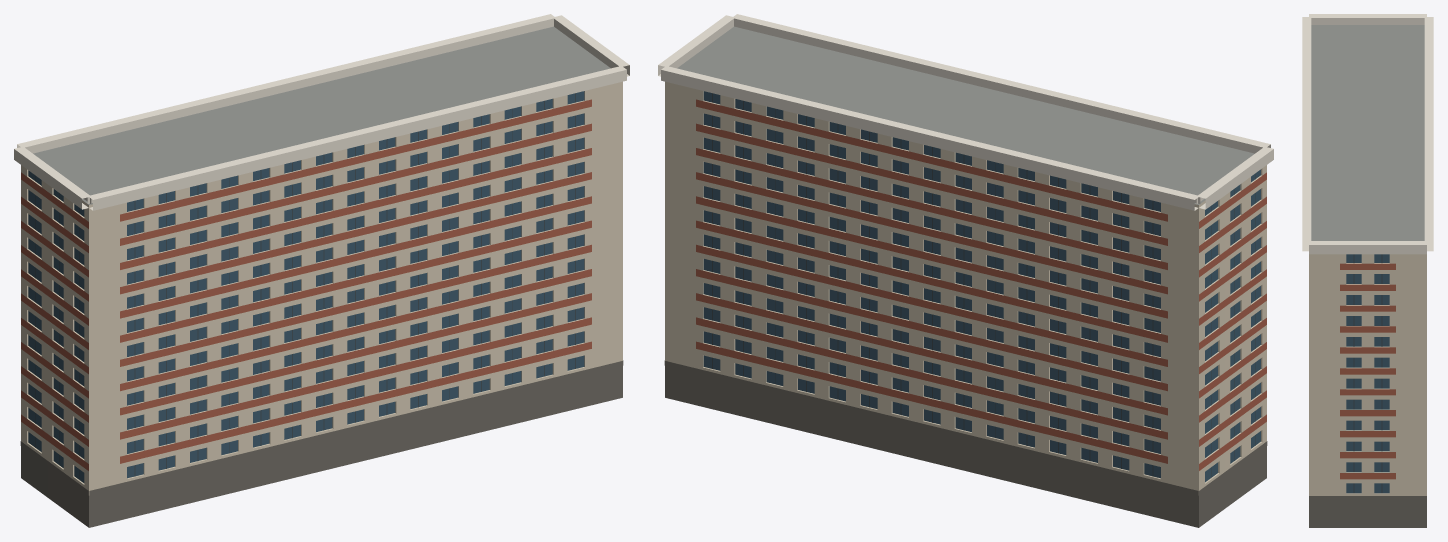
3 renders of one model, left to right at view 1: azimuth 30°, elevation 25°; view 2: azimuth 150°, elevation 25°; view 3: azimuth 270°, elevation 25°, orthographic. The views are drawn at different scales.
Visible parts, largest first — view 1: visionHall__wall, visionHall__wall2, visionHall__glass, visionHall__roof, visionHall__base, visionHall__trim, visionHall__frame; view 2: visionHall__wall, visionHall__wall2, visionHall__glass, visionHall__roof, visionHall__base, visionHall__trim, visionHall__frame; view 3: visionHall__roof, visionHall__wall, visionHall__trim, visionHall__wall2, visionHall__glass, visionHall__base, visionHall__frame.
Boxes of the visible parts, left/top/right/bottom form: visionHall__wall: left=21, top=81, right=622, bottom=495; visionHall__wall2: left=21, top=99, right=591, bottom=470; visionHall__glass: left=28, top=91, right=584, bottom=482; visionHall__roof: left=33, top=26, right=610, bottom=204; visionHall__base: left=20, top=360, right=623, bottom=527; visionHall__trim: left=14, top=14, right=629, bottom=210; visionHall__frame: left=35, top=93, right=575, bottom=480; visionHall__wall: left=665, top=81, right=1266, bottom=495; visionHall__wall2: left=696, top=99, right=1266, bottom=470; visionHall__glass: left=703, top=91, right=1260, bottom=482; visionHall__roof: left=677, top=26, right=1254, bottom=204; visionHall__base: left=664, top=360, right=1267, bottom=527; visionHall__trim: left=658, top=14, right=1273, bottom=210; visionHall__frame: left=712, top=93, right=1255, bottom=477; visionHall__roof: left=1311, top=25, right=1424, bottom=240; visionHall__wall: left=1309, top=254, right=1426, bottom=495; visionHall__trim: left=1302, top=14, right=1433, bottom=254; visionHall__wall2: left=1340, top=263, right=1395, bottom=479; visionHall__glass: left=1346, top=254, right=1389, bottom=493; visionHall__base: left=1309, top=496, right=1426, bottom=527; visionHall__frame: left=1353, top=254, right=1382, bottom=492.
Bounding box in the file's own units: 71.03 × 41 × 17.1.
